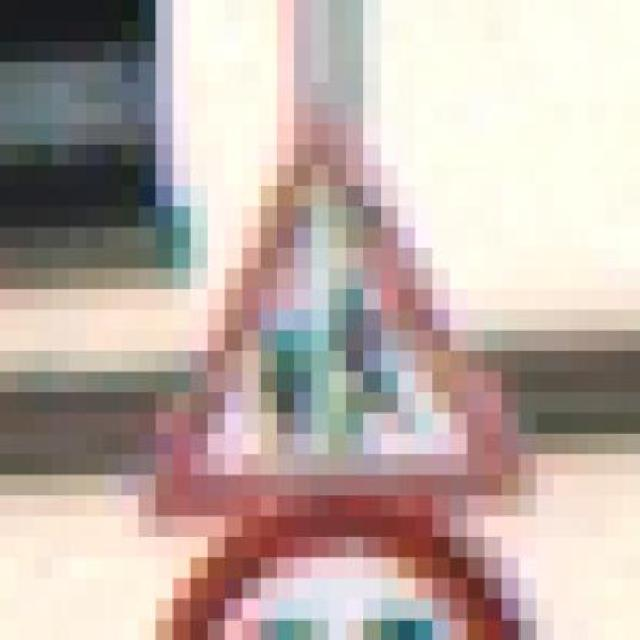Beware of children: (121, 103, 536, 537)
